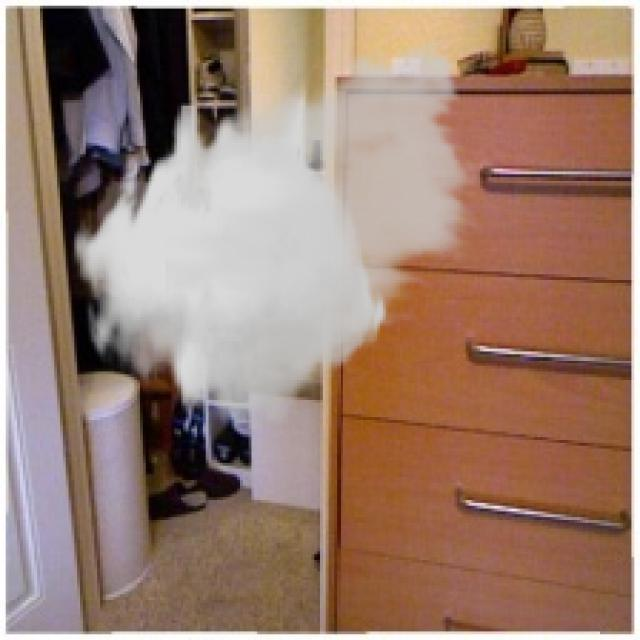Smoke: (71, 29, 483, 428)
